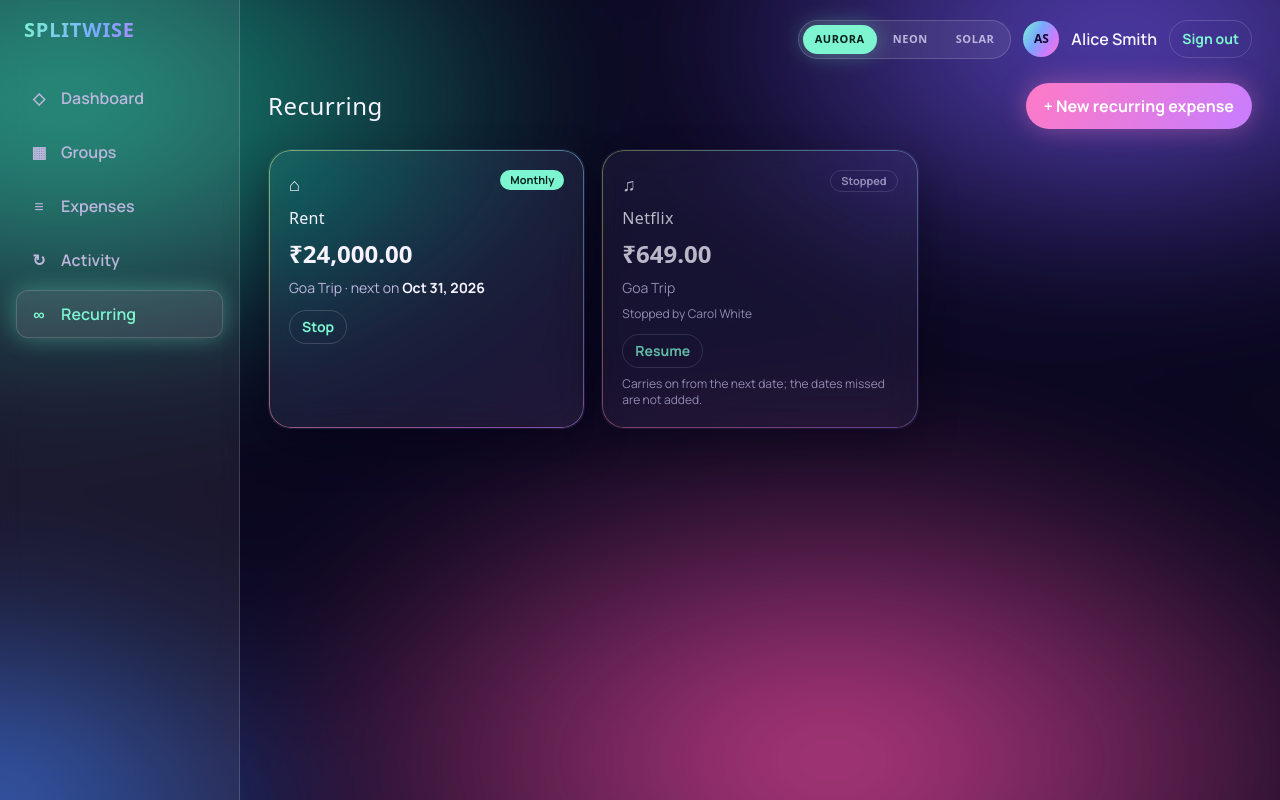
Test: recurring expenses › stops one after confirming
The width and height of the screenshot is (1280, 800).
Click the button with aria-label "Stop Rent" at (318, 326), box 289,310 -> 347,344
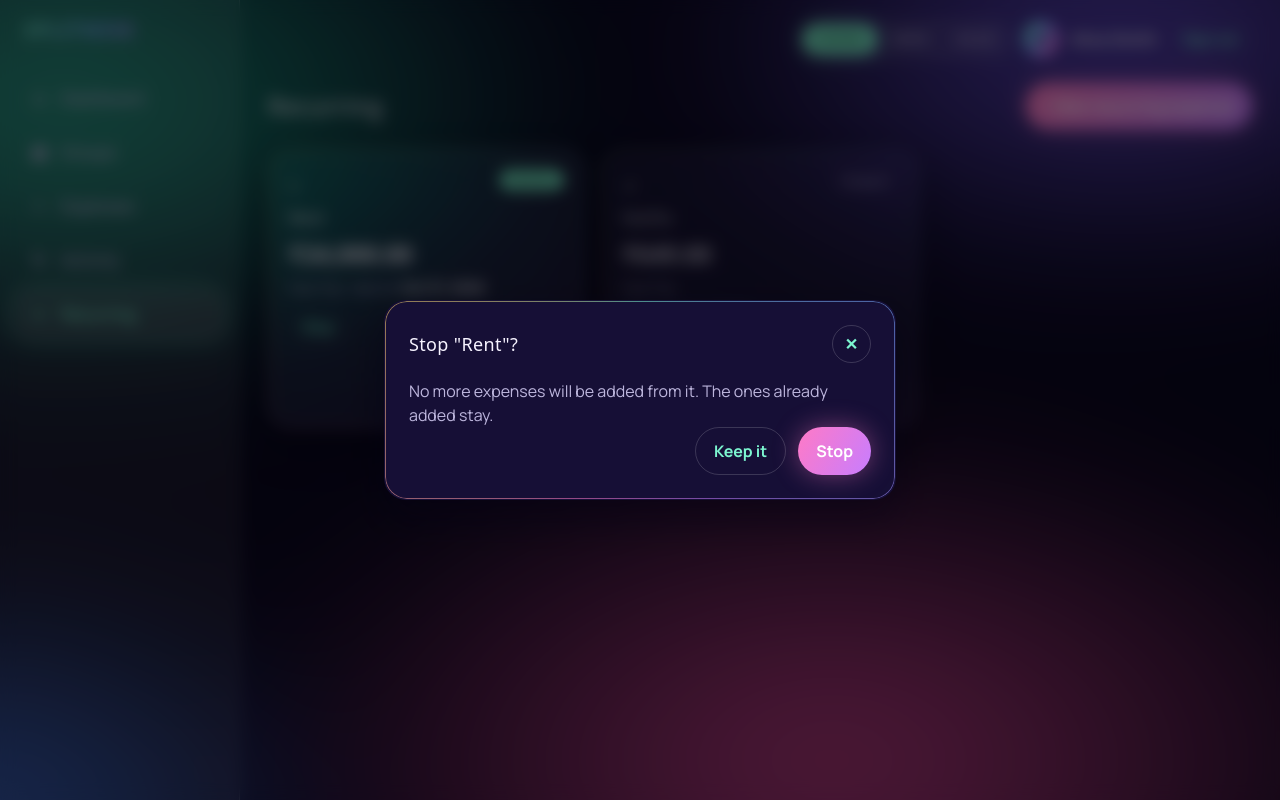
Expected: the text "The ones already added stay" is shown, 409,380 -> 828,426
Click the button "Stop" at (835, 451), box 798,427 -> 871,475
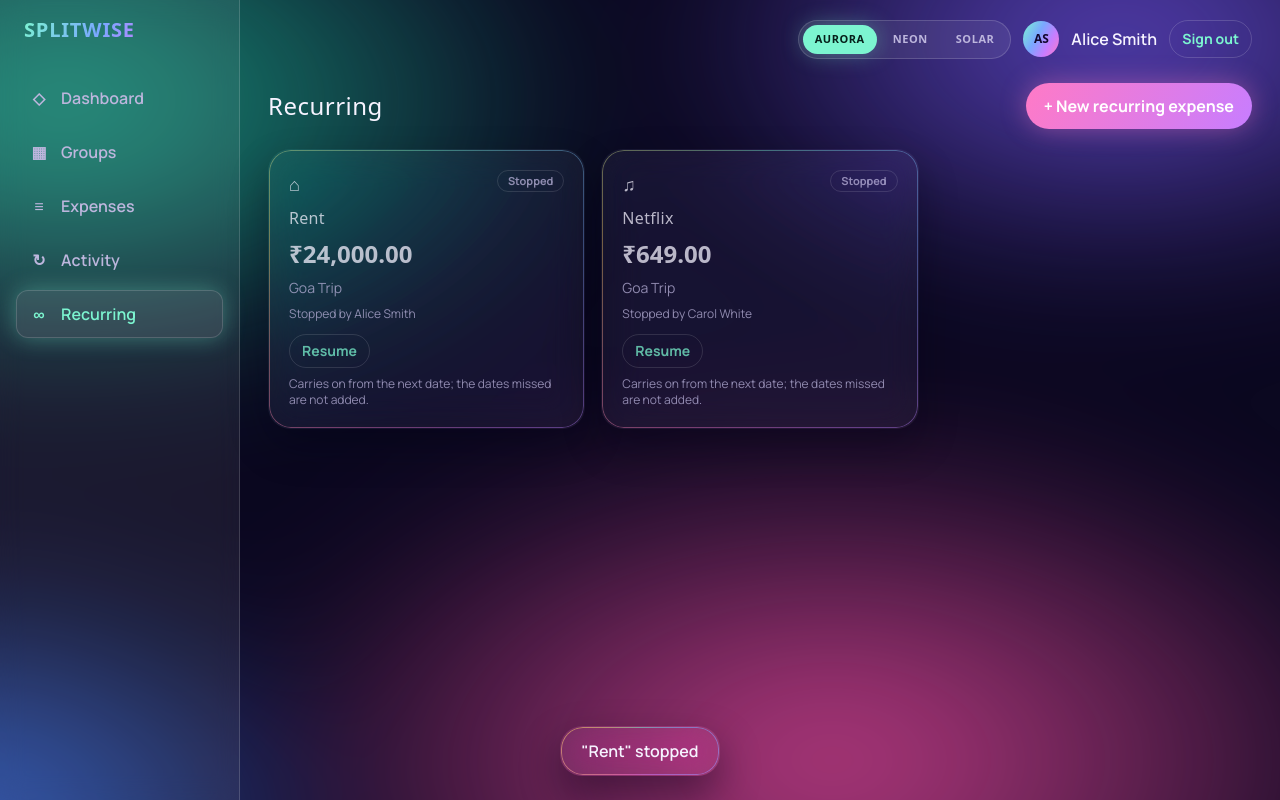
Expected: the text "\"Rent\" stopped" is shown, 560,726 -> 720,776
Expected: the list item "Rent" shows "Stopped by Alice Smith", 289,304 -> 416,322
